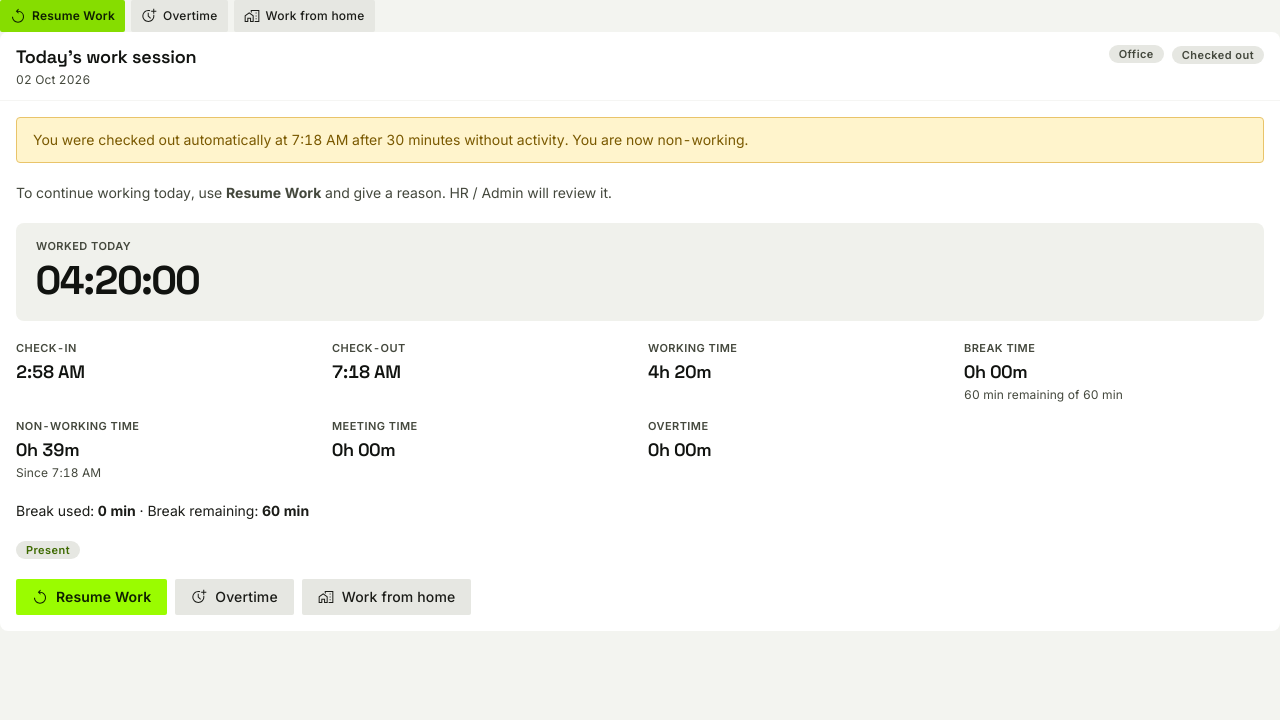
Resume Work after an automatic inactivity check-out › offers Resume Work instead of Check in, and sends the reason to HR
Check: the button "Check in" is not shown
Check: the text with test id "auto-checkout" shows "non-working", box x1=348 y1=131 x2=748 y2=148
Click the button "Resume Work" below "Present".
click(92, 597)  # box x1=16 y1=579 x2=167 y2=615
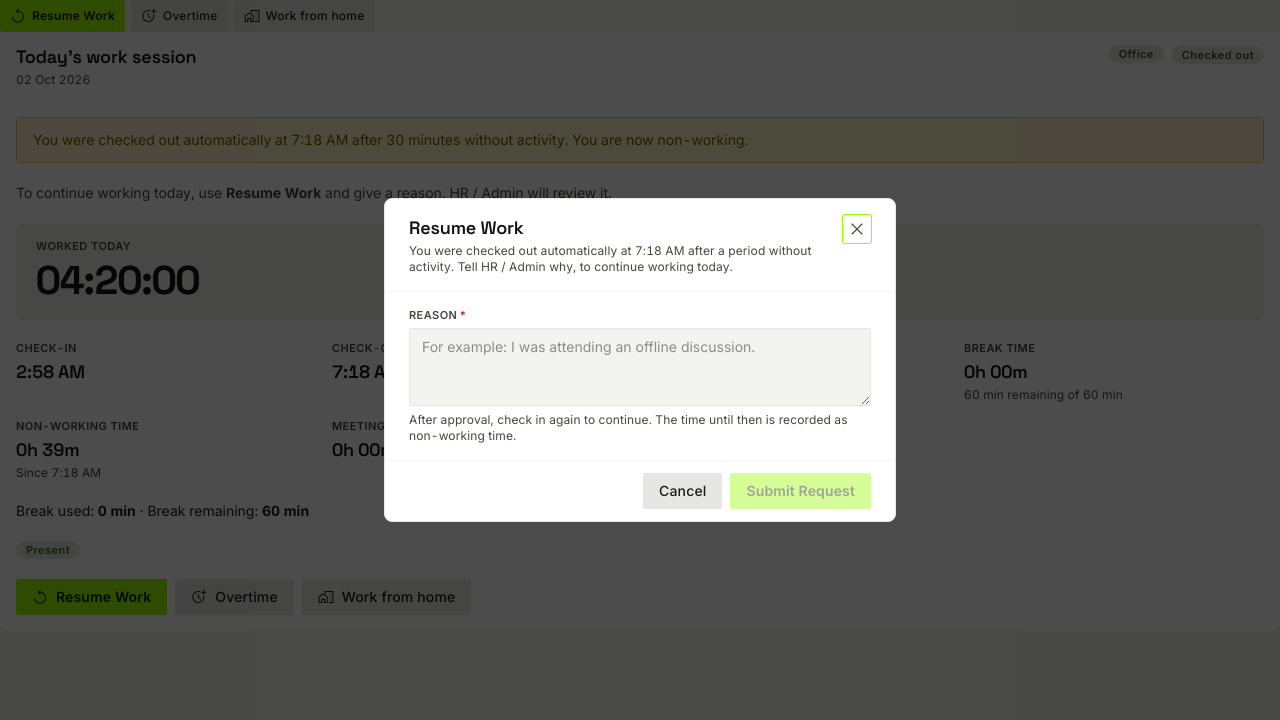
Check: the button "Submit Request" is disabled, box x1=730 y1=473 x2=871 y2=509
Type "I was attending an offline discussion." into the text box labelled "Reason*".
click(640, 367); type("I was attending an offline discussion.")  # box x1=409 y1=328 x2=871 y2=406
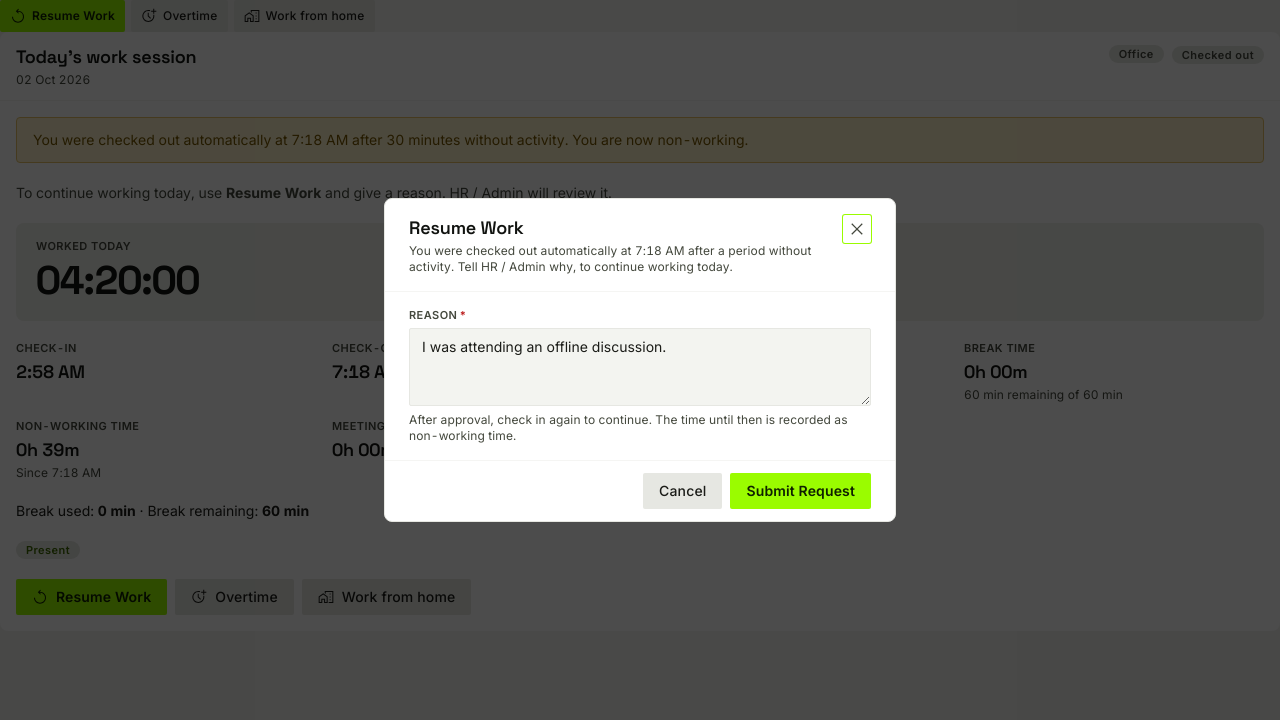
Click the button "Submit Request".
click(801, 491)  # box x1=730 y1=473 x2=871 y2=509
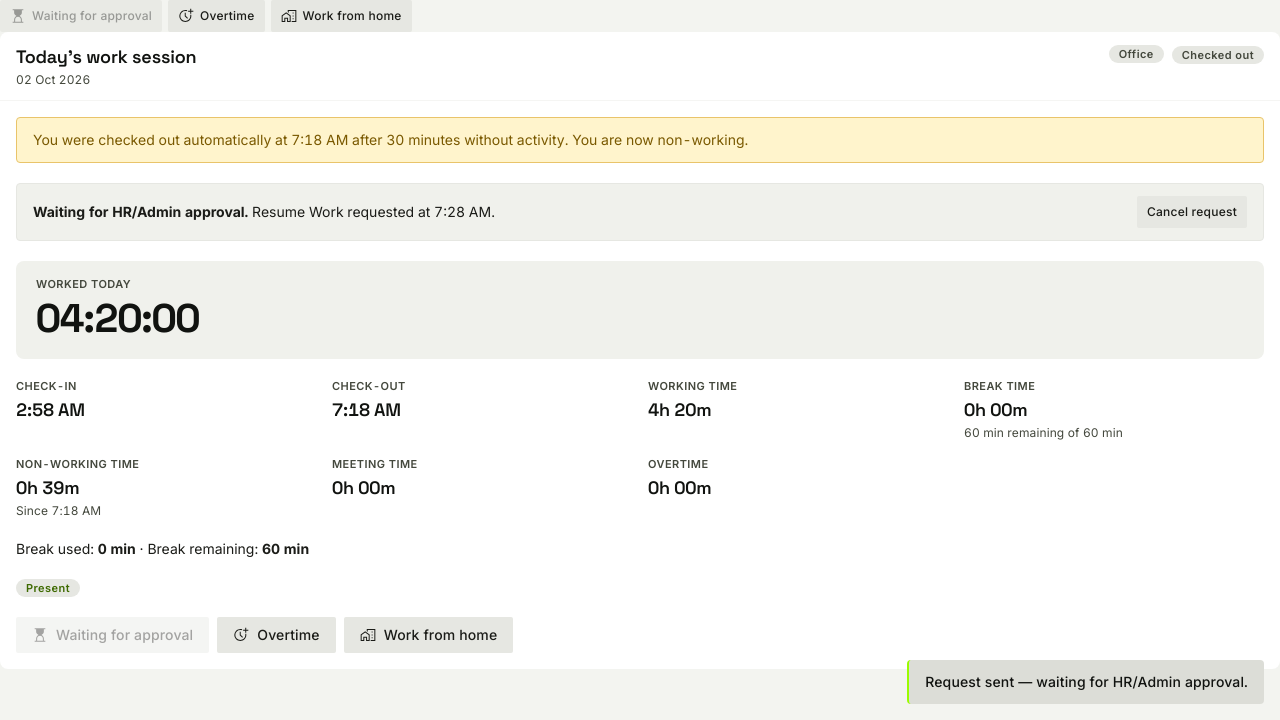
Check: the text "Waiting for HR/Admin approval." is shown, box x1=33 y1=203 x2=248 y2=220
Check: the button "Waiting for approval" below "Present" is disabled, box x1=16 y1=617 x2=209 y2=653
